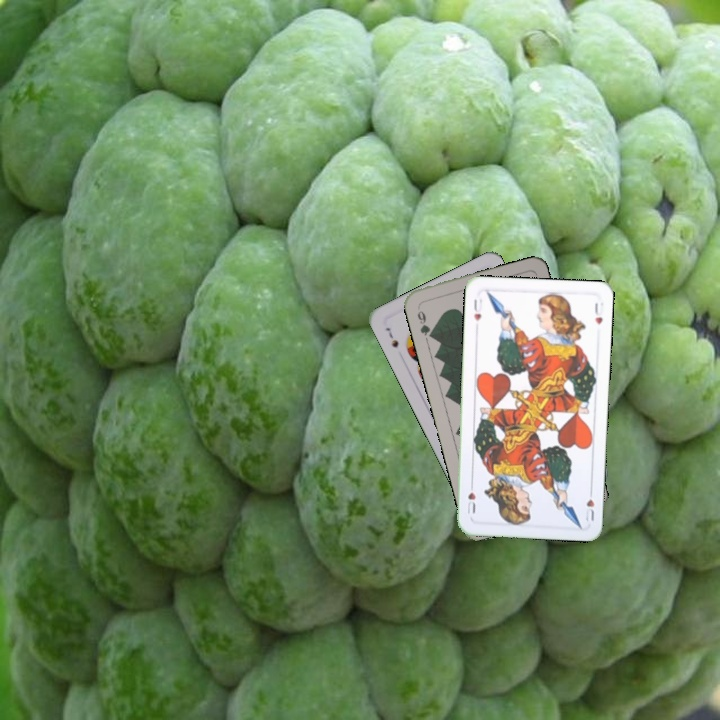G9: (413, 302, 436, 341)
HU: (581, 484, 597, 523), (470, 295, 485, 323)
S7: (381, 323, 401, 350)
